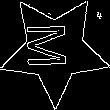M_E: (30, 26, 79, 73)
